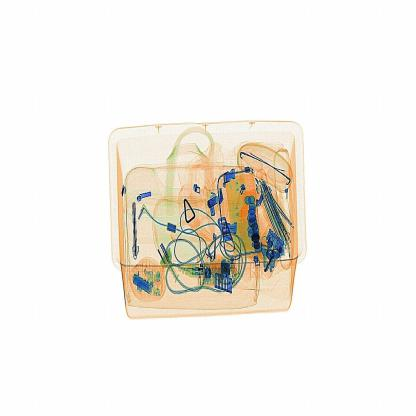knife: (128, 200, 142, 262)
